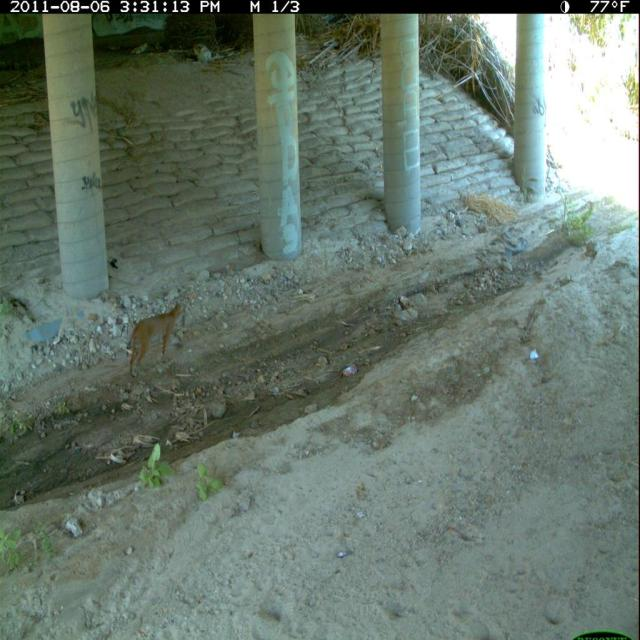bobcat: (124, 296, 191, 383)
